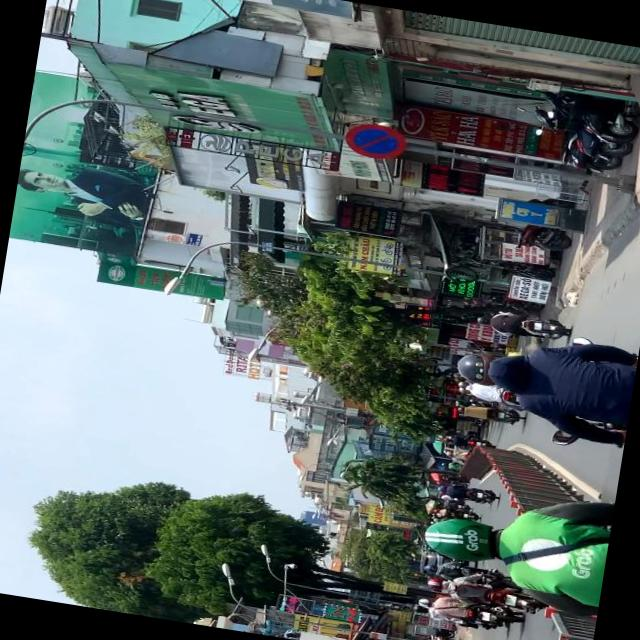P-131a: (345, 120, 409, 162)
